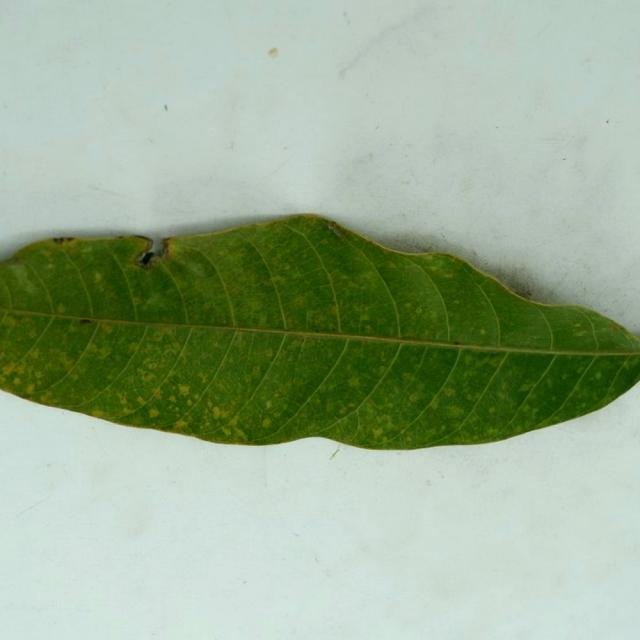Mango: (0, 216, 639, 449)
Powdery_Mildew: (138, 281, 178, 311), (144, 326, 185, 344), (180, 257, 209, 278), (17, 273, 40, 295), (509, 284, 534, 300), (291, 292, 313, 310), (260, 412, 272, 431), (445, 406, 463, 418), (402, 374, 415, 387), (85, 344, 100, 355), (174, 419, 188, 430), (5, 256, 21, 265), (221, 426, 233, 437), (372, 427, 384, 438), (178, 384, 190, 395), (4, 317, 16, 328), (332, 305, 342, 318), (212, 407, 223, 418), (142, 372, 154, 382), (443, 387, 456, 396), (522, 383, 536, 391), (79, 318, 93, 326), (148, 408, 159, 418), (409, 393, 421, 402), (348, 377, 360, 386), (93, 273, 103, 283), (34, 371, 44, 381), (268, 47, 278, 57), (273, 276, 284, 285), (103, 324, 114, 333), (426, 265, 440, 272), (347, 282, 359, 290), (26, 383, 35, 393), (13, 375, 22, 385), (523, 403, 533, 412), (32, 349, 41, 359), (575, 330, 587, 337), (57, 304, 66, 313), (199, 374, 208, 383), (251, 366, 260, 375), (132, 297, 142, 305), (53, 237, 64, 244), (136, 396, 145, 404), (154, 391, 162, 400), (442, 273, 454, 279), (169, 395, 177, 403), (594, 371, 602, 379), (265, 349, 273, 357), (120, 396, 128, 404), (561, 374, 569, 382), (29, 330, 37, 338), (361, 314, 370, 321), (488, 407, 497, 414), (404, 302, 413, 309), (406, 433, 413, 442), (340, 407, 348, 414), (276, 391, 284, 398), (612, 326, 621, 332), (266, 401, 273, 408), (479, 328, 486, 335), (364, 325, 371, 332), (415, 307, 422, 314), (187, 399, 194, 405), (453, 341, 461, 345), (221, 319, 227, 324), (315, 328, 321, 333), (117, 235, 124, 239), (331, 328, 336, 332)
